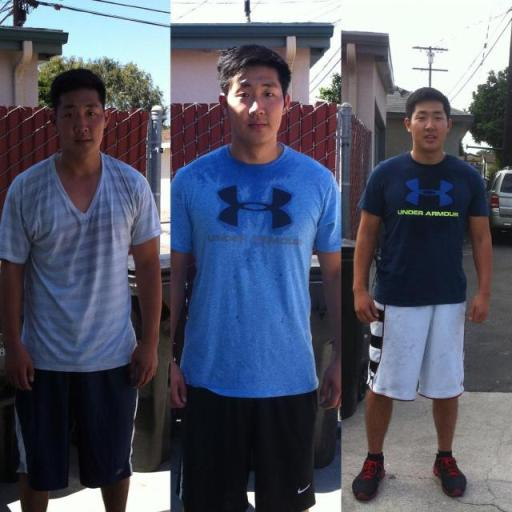Under Armour: (217, 182, 292, 232), (396, 176, 458, 216)
